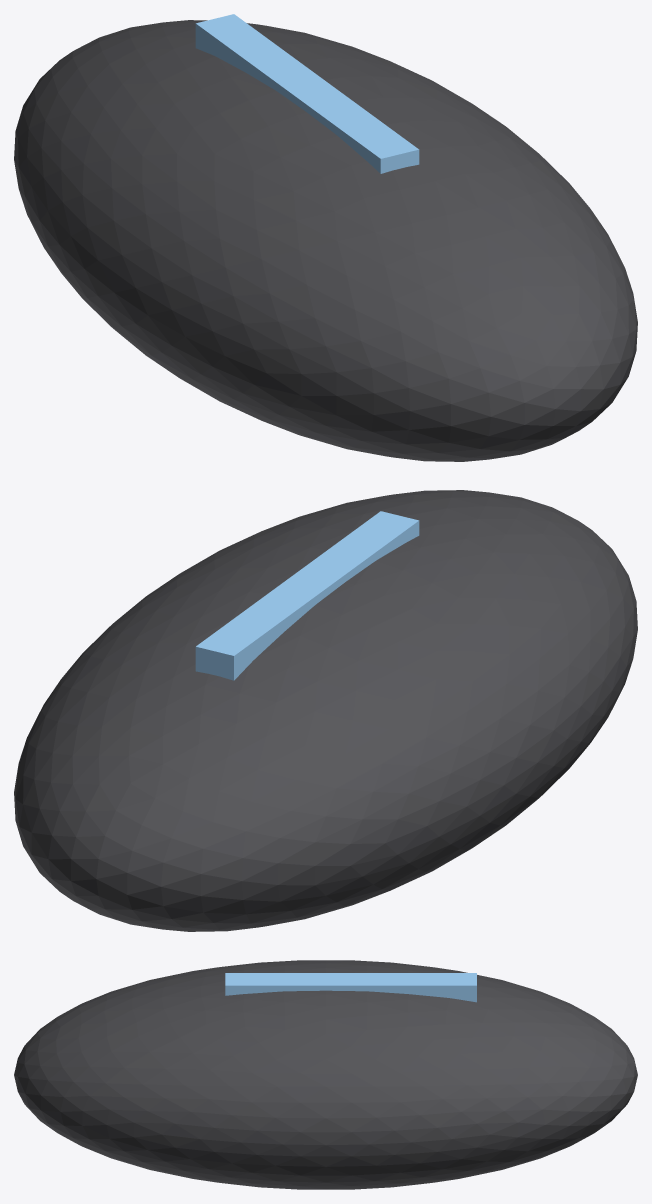
File: 0-gaming-mouse.glb
3 views of the same model, one above another, from view 1: azimuth 30°, elevation 25°; view 2: azimuth 150°, elevation 25°; view 3: azimuth 270°, elevation 25° (orthographic). The views are drawn at different scales.
Visible parts, largest first — view 1: shell, rgb-strip; view 2: shell, rgb-strip; view 3: shell, rgb-strip.
Part boxes in pixels (box(x1,y1,x2,y2)): shell: box(14, 20, 637, 461); rgb-strip: box(195, 14, 419, 173); shell: box(14, 490, 637, 931); rgb-strip: box(195, 511, 419, 680); shell: box(14, 960, 637, 1189); rgb-strip: box(225, 973, 476, 1002).
Bounding box in the file's own units: 0.066 × 0.041 × 0.124.
